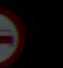No overtake: (0, 8, 26, 64)
